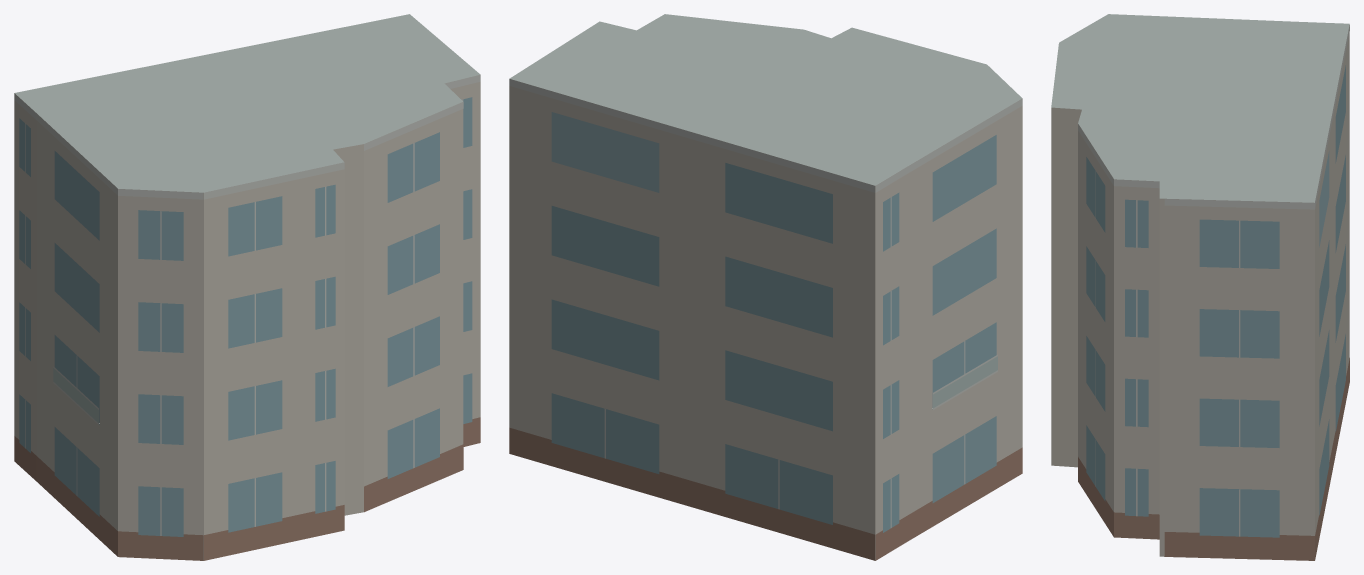
Rendered from survey-upis-32728421.glb.
3 renders of one model, left to right at view 1: azimuth 30°, elevation 25°; view 2: azimuth 150°, elevation 25°; view 3: azimuth 270°, elevation 25°, orthographic. The views are drawn at different scales.
Parts seen in each view (by area): view 1: survey-upis-32728421.tmp; view 2: survey-upis-32728421.tmp; view 3: survey-upis-32728421.tmp.
Boxes of the visible parts, x1,y1,x2,y2 form: survey-upis-32728421.tmp: [14, 14, 480, 560]; survey-upis-32728421.tmp: [509, 14, 1022, 560]; survey-upis-32728421.tmp: [1051, 14, 1349, 560].
Bounding box in the file's own units: 14.48 × 12.8 × 9.69.
